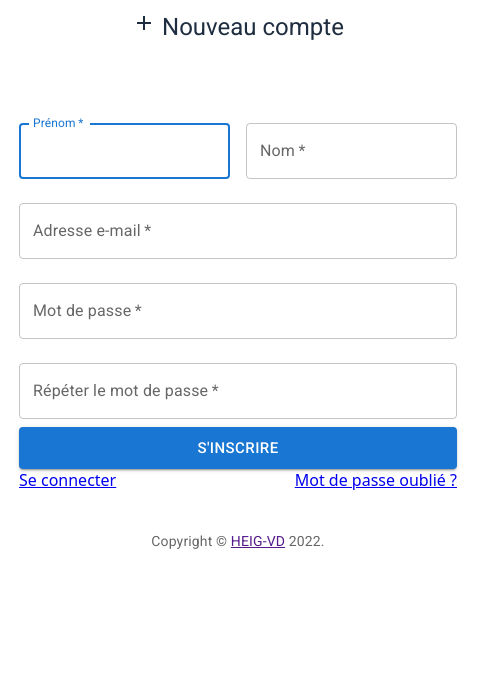
Signup Component › Signup Component | Submit empty
Step 1. Click the button "S'inscrire" → (238, 448), box [19, 427, 457, 469]
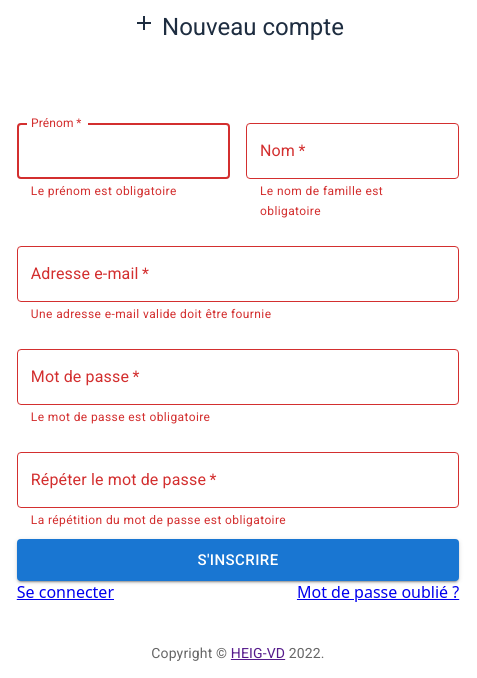
expect the text "Le prénom est obligatoire" is shown: met, box [31, 184, 177, 198]
expect the text "Le nom de famille est obligatoire" is shown: met, box [260, 184, 383, 218]
expect the text "Une adresse e-mail valide doit être fournie" is shown: met, box [31, 307, 272, 321]
